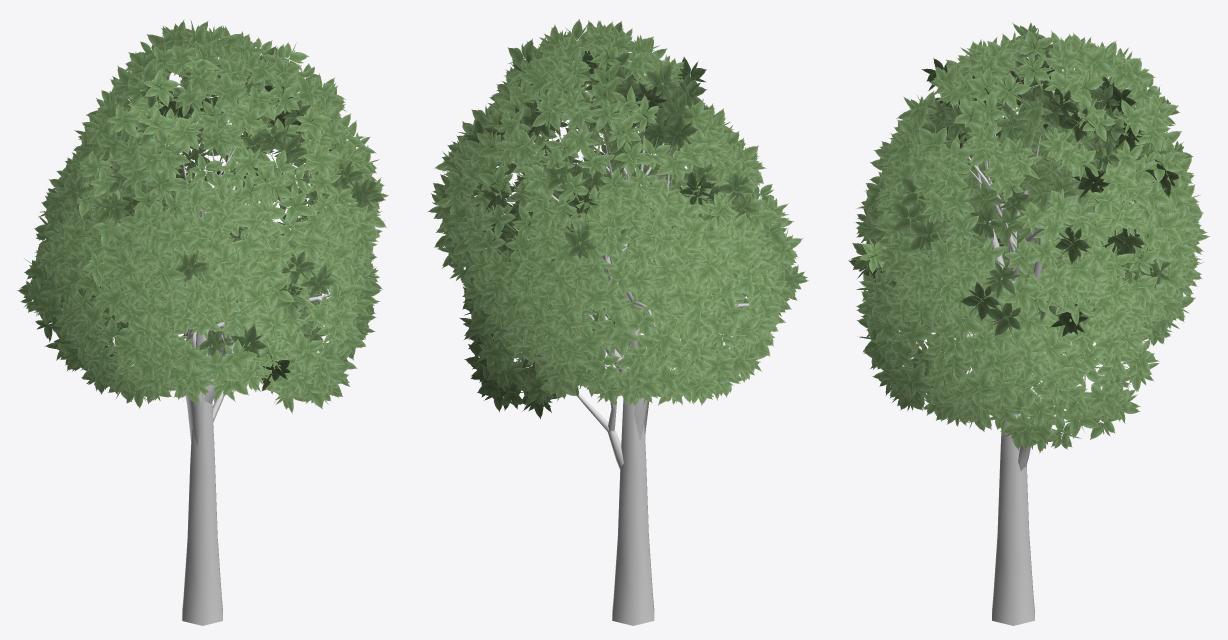
File: Tree_Full.fbx
The picture shows the model from 3 angles, left to right: view 1: azimuth 30°, elevation 25°; view 2: azimuth 150°, elevation 25°; view 3: azimuth 270°, elevation 25°; orthographic projection. The views are drawn at different scales.
Parts seen in each view (by area): view 1: leaves, trunk.001; view 2: leaves, trunk.001; view 3: leaves, trunk.001.
Boxes of the visible parts, left/top/right/bottom form: leaves: left=17, top=19, right=388, bottom=413; trunk.001: left=131, top=146, right=357, bottom=625; leaves: left=427, top=19, right=808, bottom=419; trunk.001: left=514, top=129, right=748, bottom=625; leaves: left=848, top=22, right=1210, bottom=453; trunk.001: left=955, top=115, right=1099, bottom=625.
Size of the model in its own units: 476 by 786 by 443.
